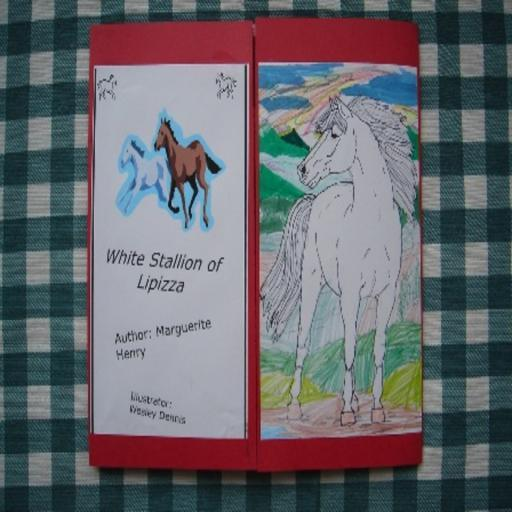horse: (256, 93, 418, 427), (154, 118, 222, 234), (118, 137, 175, 213)
